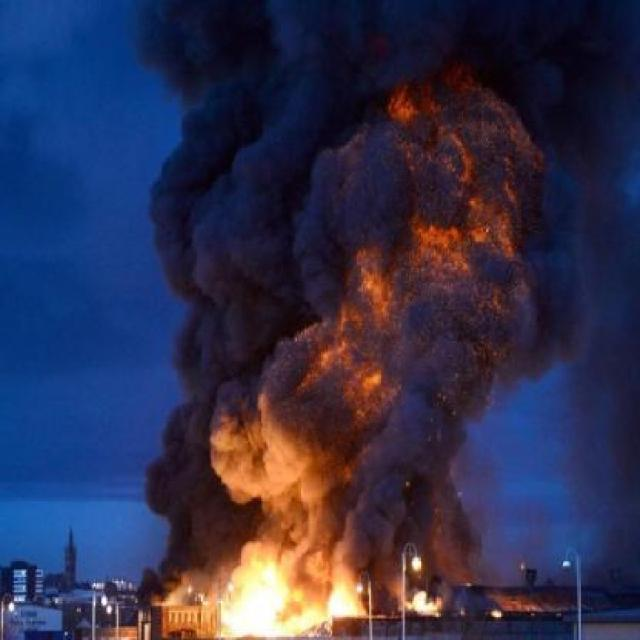Fire: (166, 542, 440, 636)
Smoke: (128, 17, 612, 516)
